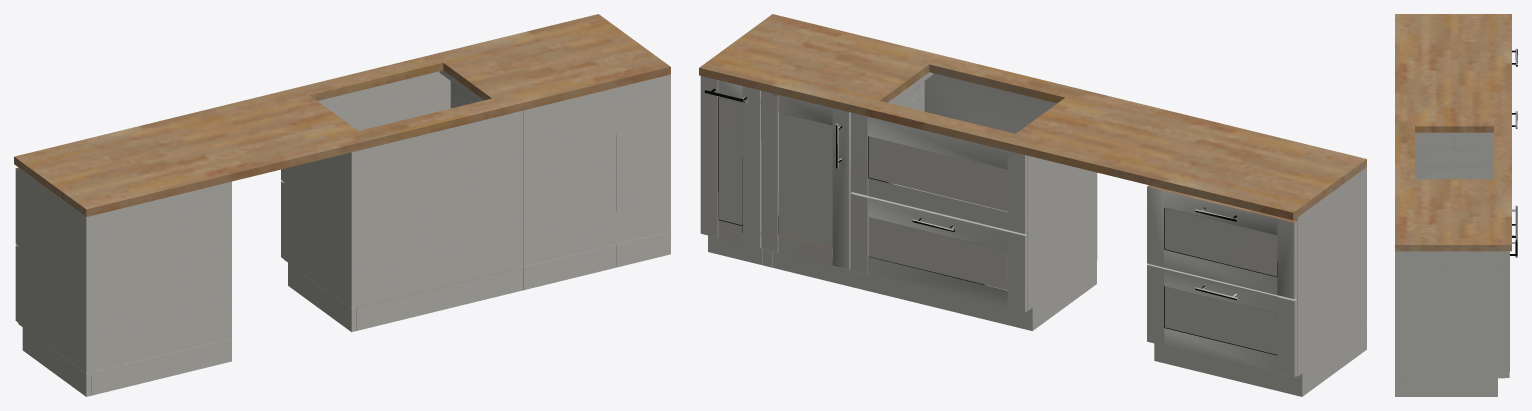
The model's file is fixture_counter_a01.glb.
3 renders of one model, left to right at view 1: azimuth 30°, elevation 25°; view 2: azimuth 150°, elevation 25°; view 3: azimuth 270°, elevation 25°, orthographic. The views are drawn at different scales.
Parts seen in each view (by area): view 1: fixture_counter_a01_lod1; view 2: fixture_counter_a01_lod1; view 3: fixture_counter_a01_lod1.
Part boxes in pixels (bbox=[...]): fixture_counter_a01_lod1: bbox=[14, 14, 670, 396]; fixture_counter_a01_lod1: bbox=[699, 14, 1366, 396]; fixture_counter_a01_lod1: bbox=[1395, 14, 1517, 396].
Bounding box in the file's own units: 3.02 × 0.9267 × 0.6797.
Materials: 1 (1 with a texture image).
